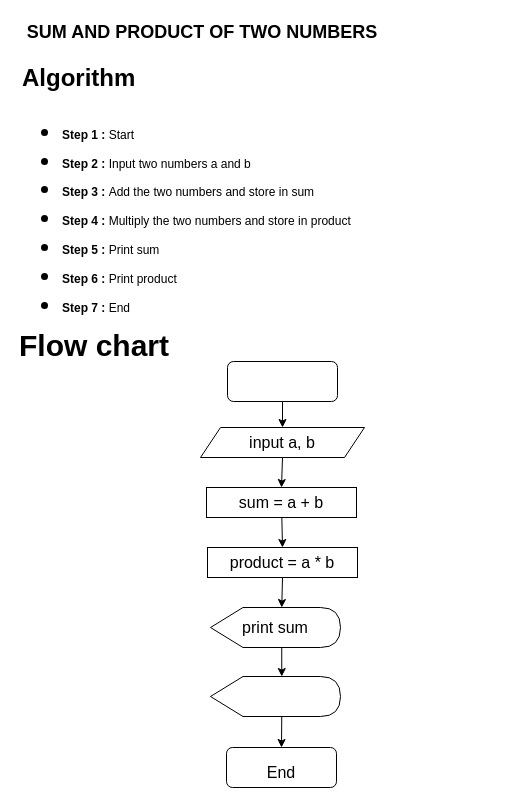
Some shapes in this 514 by 805 pixel diagram are drawn without their labels. Each missing label, with the box of its shape:
print product: (210, 676, 340, 716)
Start: (226, 360, 338, 402)
